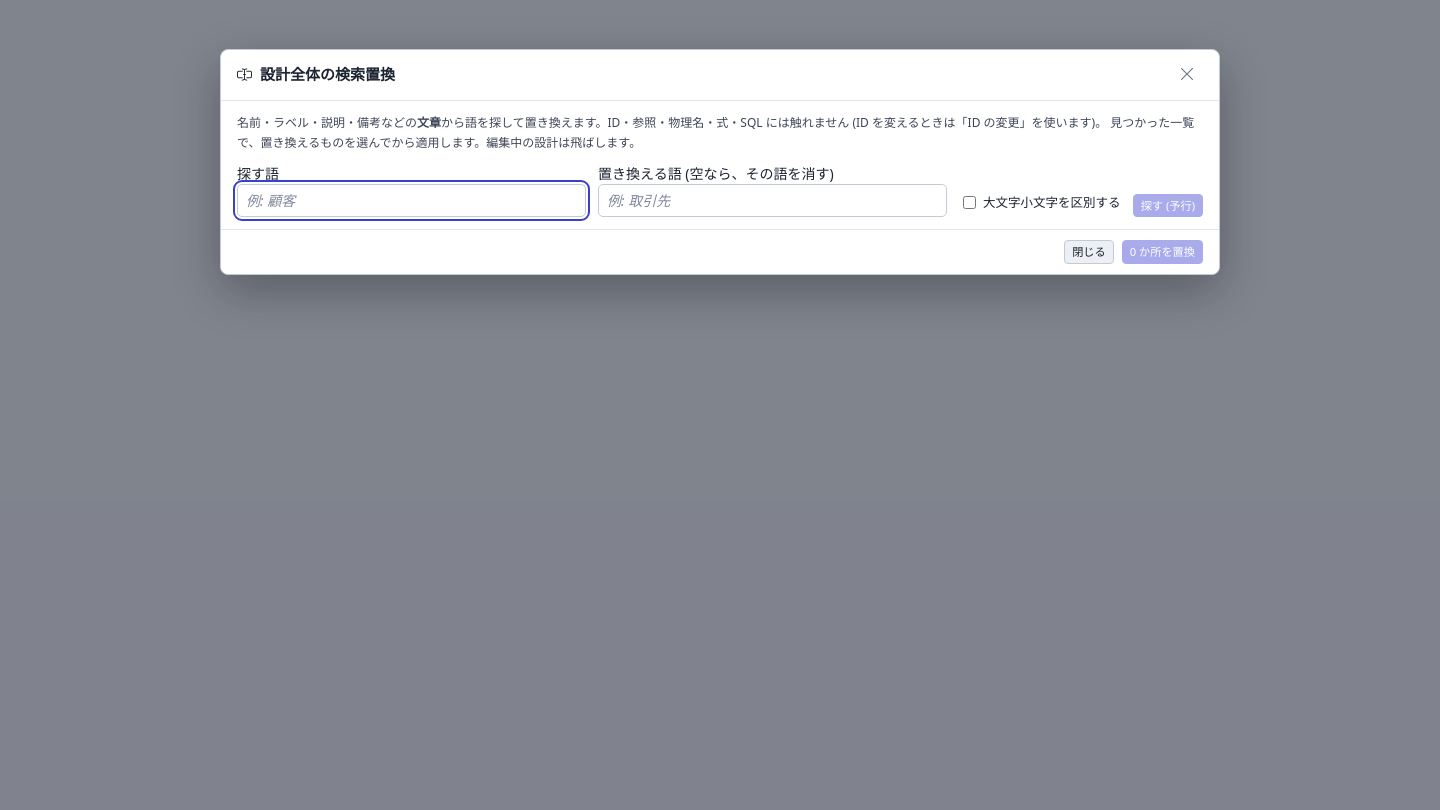
ReplaceDialog (設計全体の検索置換) › 外したものは適用に含めない。入力を変えたら、探し直すまで適用できない
Step 1. Type "顧客" into the field with test id "replace-query" → (412, 201), box [237,184,586,217]
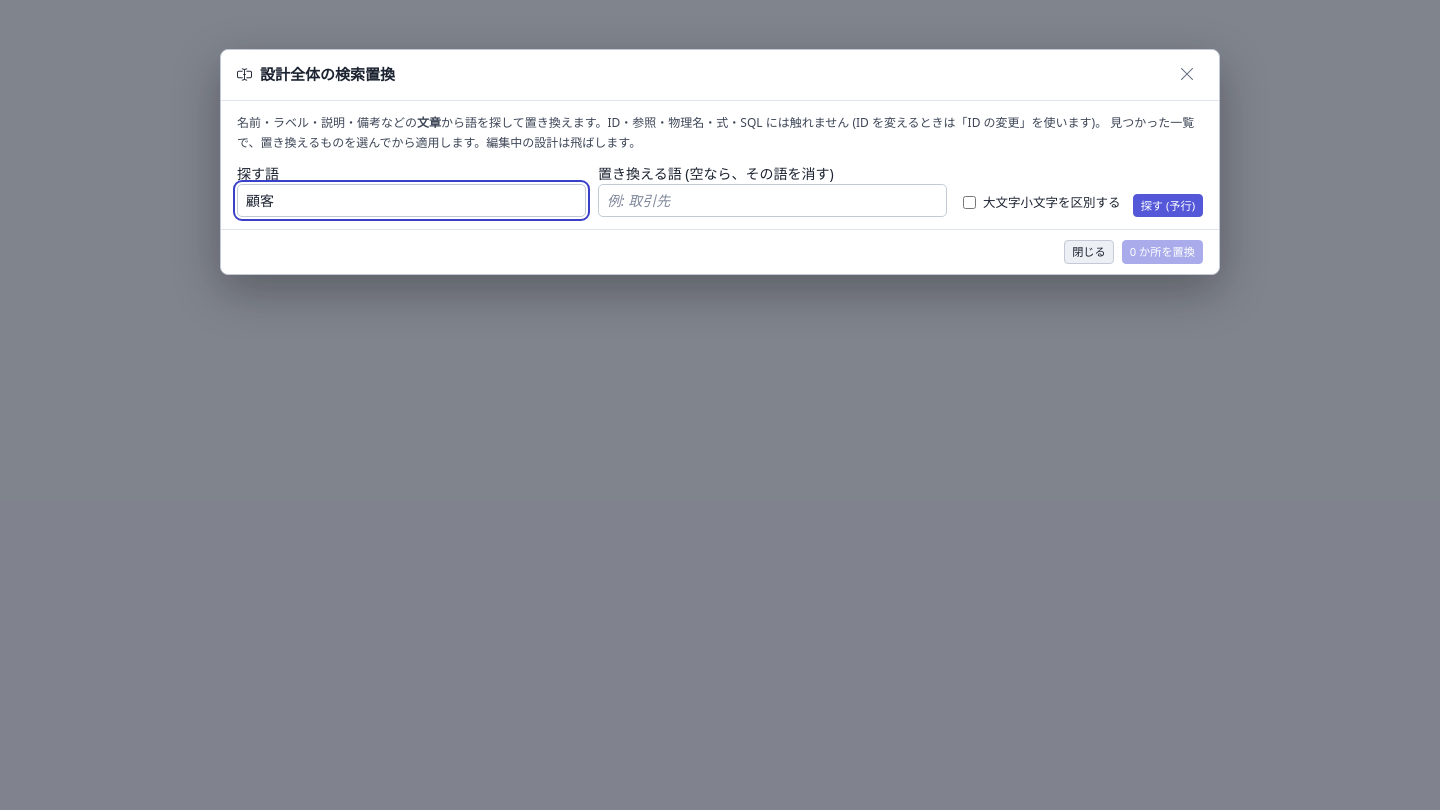
Step 2. Click the button with test id "replace-search" → (1168, 206), box [1133,194,1203,217]
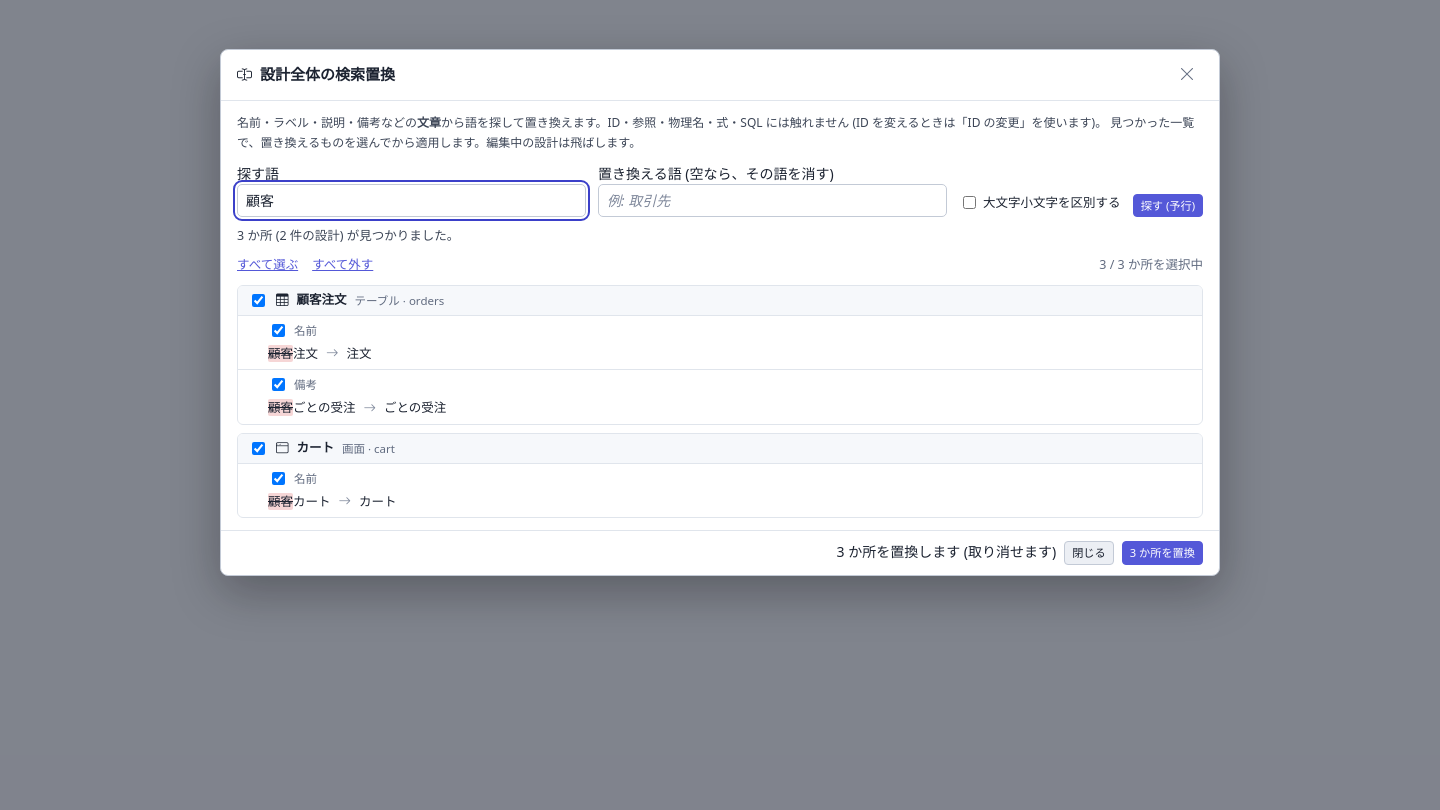
Expected: the element with test id "replace-list" is shown, [237,285,1203,518]
Step 3. Click the checkbox with test id "replace-item" showing "備考" → (278, 385), box [272,378,285,391]
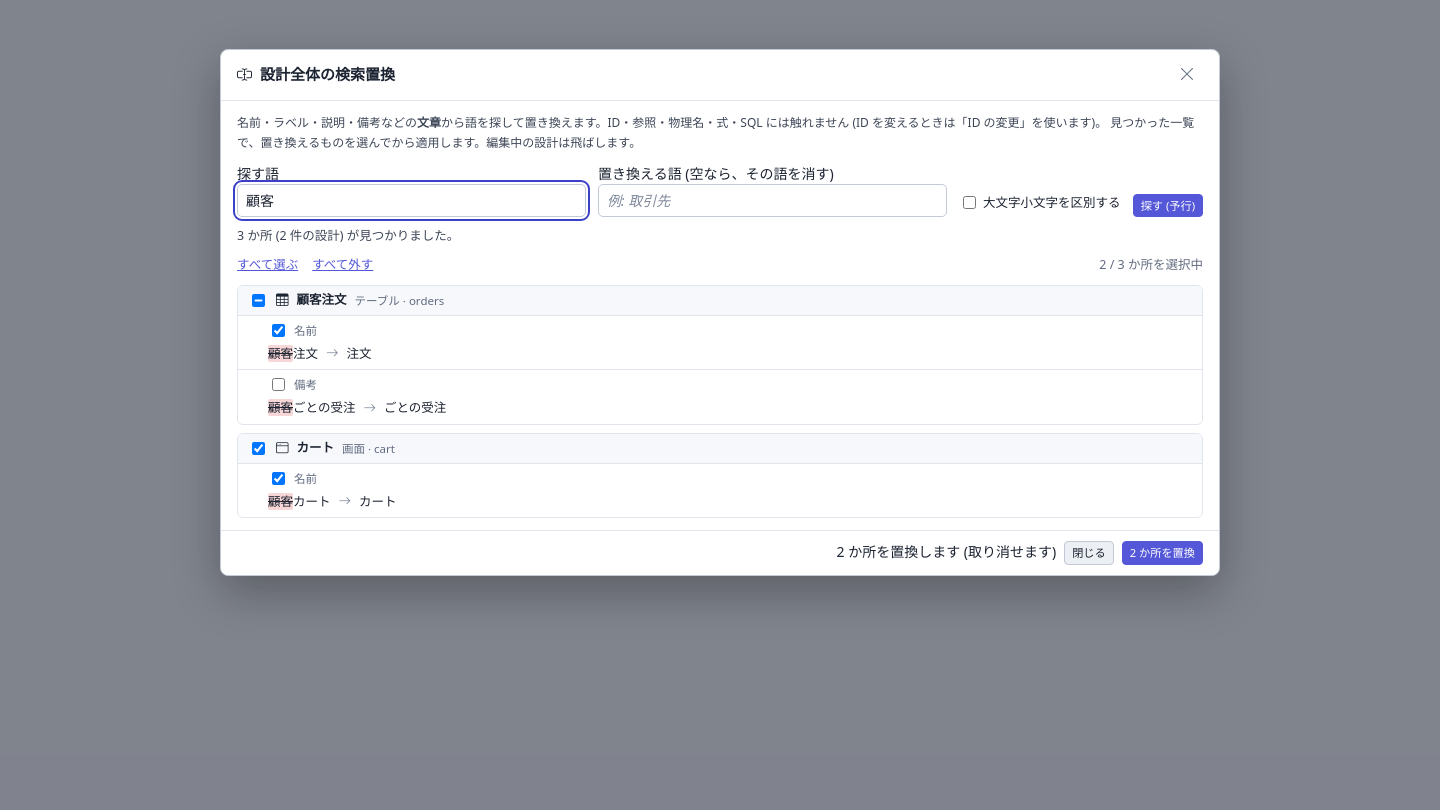
Expected: the button with test id "replace-apply" reads "2 か所を置換", [1122,541,1203,565]
Step 4. Type "別の語" into the field with test id "replace-replacement" → (773, 201), box [598,184,947,217]
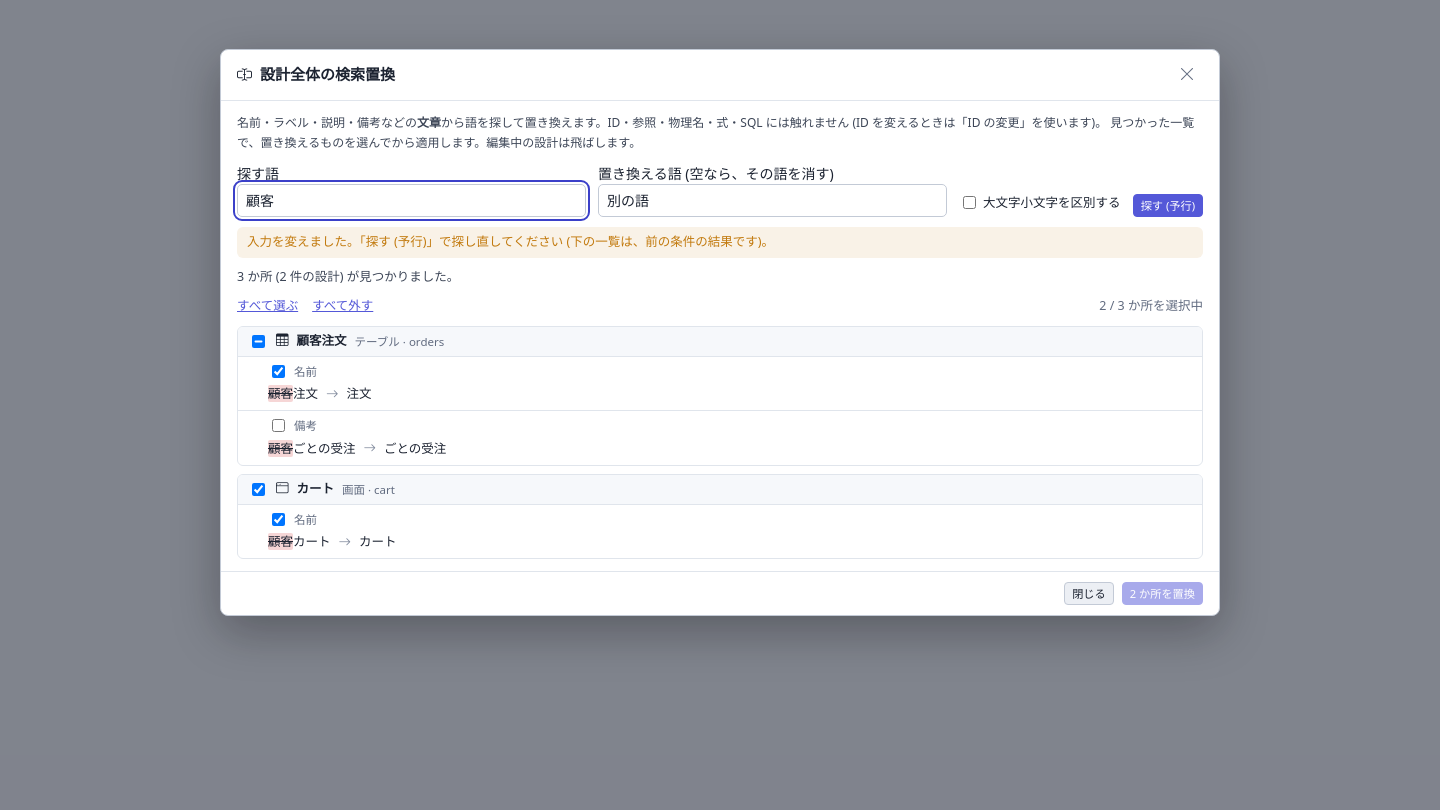
Expected: the message "入力を変えました。「探す (予行)」で探し直してください (下の一覧は、前の条件の結果です)。" is shown, [237,227,1203,258]
Expected: the button with test id "replace-apply" is disabled, [1122,582,1203,605]
